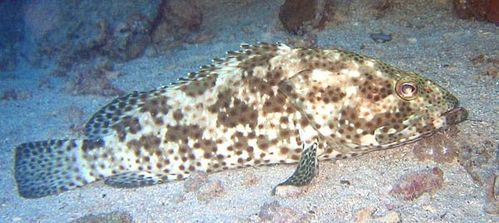fish: (14, 41, 469, 200)
